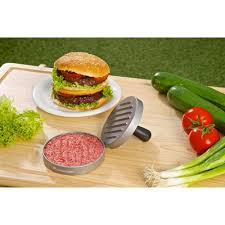hamburger: (49, 50, 114, 109)
